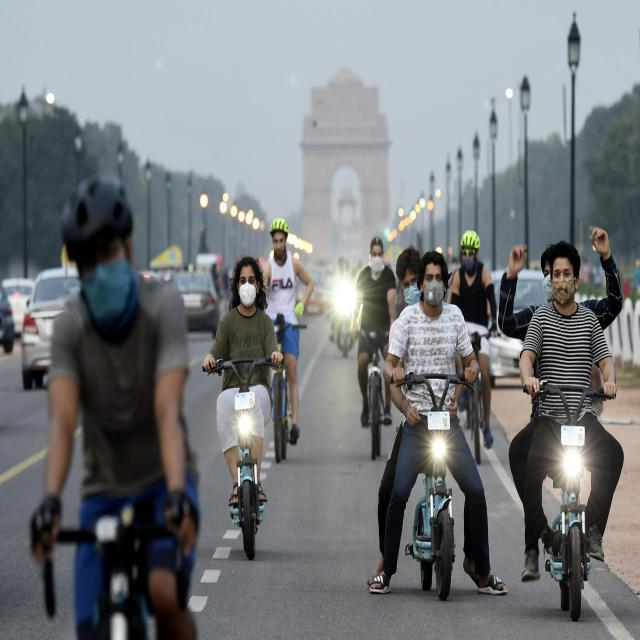bicycle: (369, 248, 508, 600), (499, 230, 624, 621), (202, 256, 282, 560), (350, 236, 396, 459)
